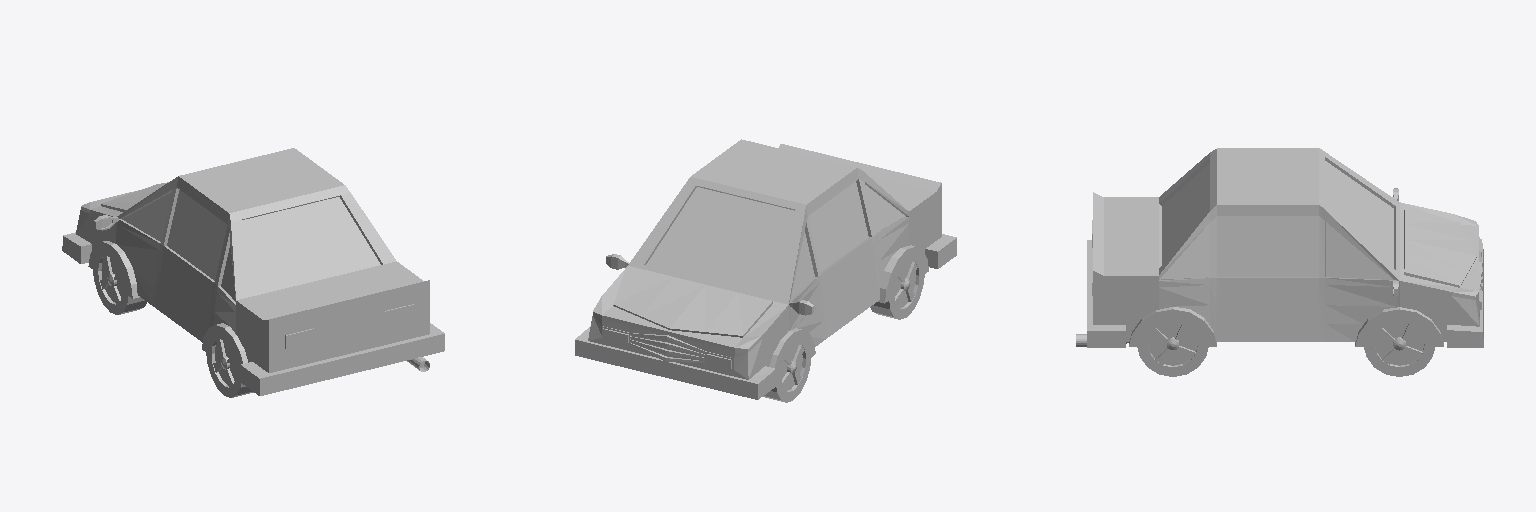
File: small_car_2.obj
3 renders of one model, left to right at view 1: azimuth 30°, elevation 25°; view 2: azimuth 150°, elevation 25°; view 3: azimuth 270°, elevation 25°, orthographic.
Parts seen in each view (by area): view 1: Car4; view 2: Car4; view 3: Car4.
Boxes of the visible parts, box(x1,y1,x2,y2) form: Car4: box(62, 148, 444, 397); Car4: box(575, 139, 956, 402); Car4: box(1076, 148, 1483, 376).
Bounding box in the file's own units: 0.7311 × 0.5396 × 1.25.